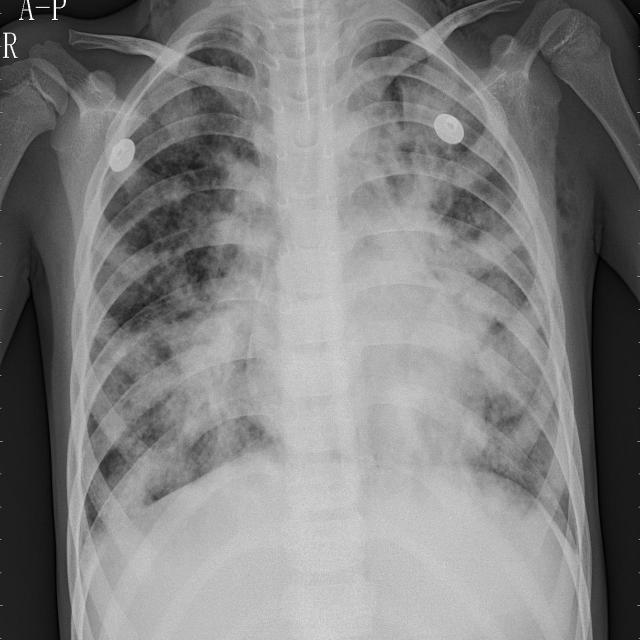high-pneumonia: (354, 83, 530, 428), (126, 266, 253, 495), (205, 68, 271, 270)
